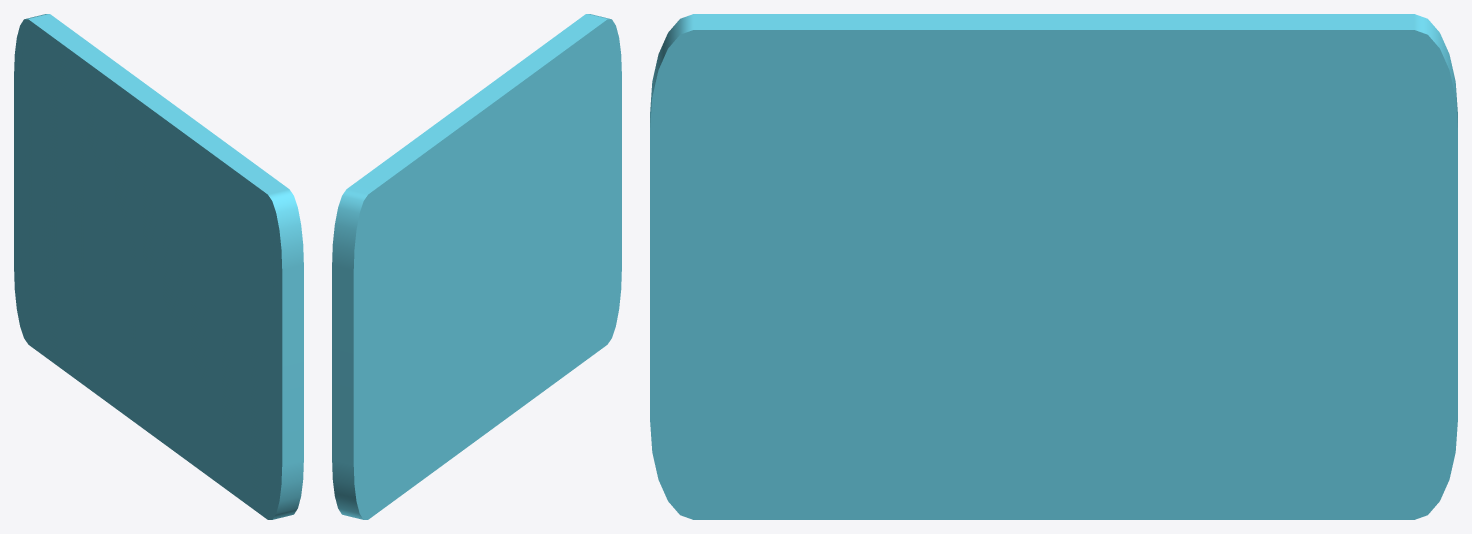
File: Modulo2-4.fbx
3 views of the same model, side by side, from view 1: azimuth 30°, elevation 25°; view 2: azimuth 150°, elevation 25°; view 3: azimuth 270°, elevation 25° (orthographic). The views are drawn at different scales.
Visible parts, largest first — view 1: pCube14; view 2: pCube14; view 3: pCube14.
Boxes of the visible parts, x1,y1,x2,y2 form: pCube14: (14,14,303,519); pCube14: (332,14,621,519); pCube14: (650,14,1457,519).
Bounding box in the file's own units: 0.1155 × 1.66 × 2.47.
